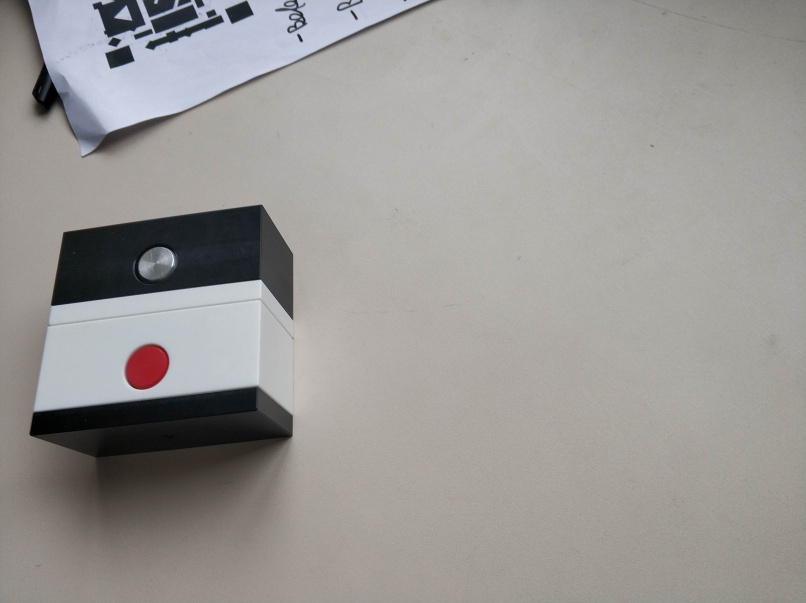black+white+red: (25, 300, 298, 457)
white+black+silver: (45, 201, 296, 332)
